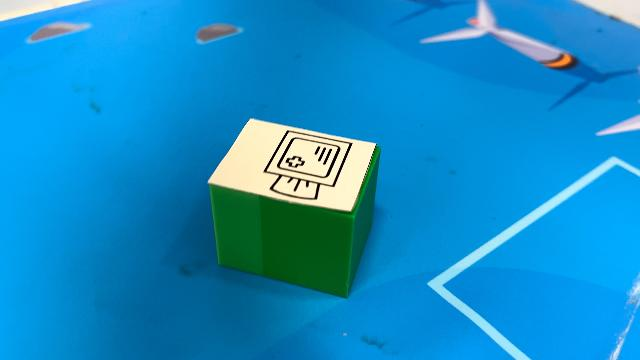napkin: (205, 115, 383, 299)
